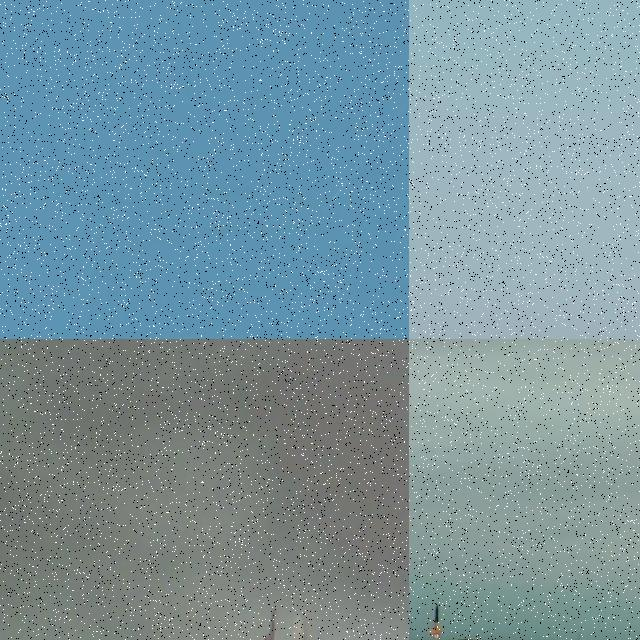Rocket: (278, 612, 318, 640), (427, 604, 445, 634), (333, 198, 334, 201)
